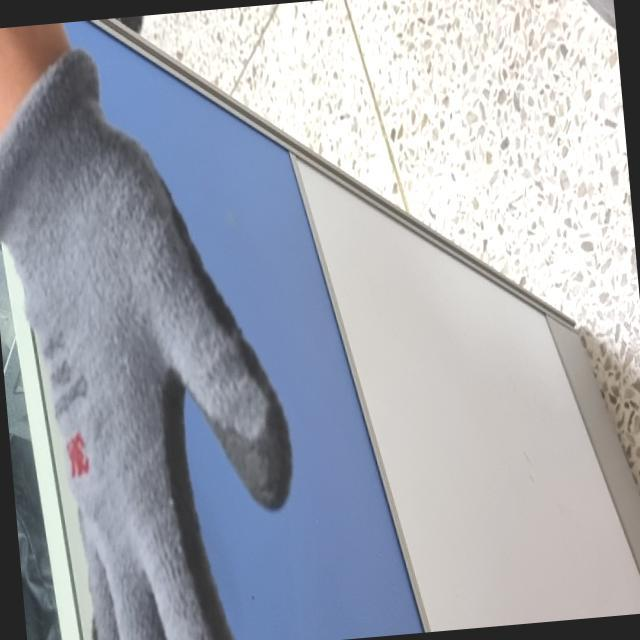Gloves: (2, 46, 276, 640)
